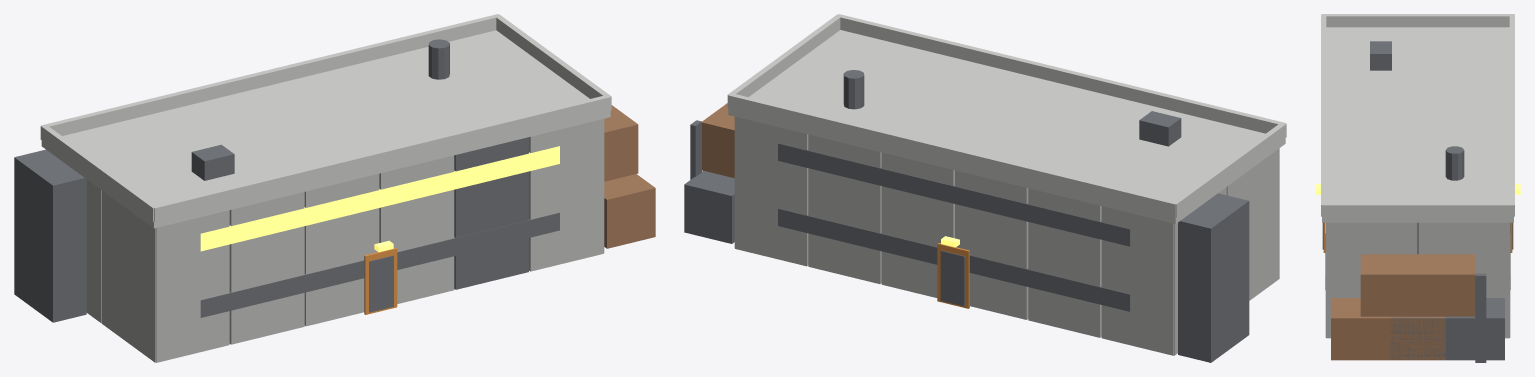
The model's file is B_dorm.glb.
3 views of the same model, side by side, from view 1: azimuth 30°, elevation 25°; view 2: azimuth 150°, elevation 25°; view 3: azimuth 270°, elevation 25° (orthographic). The views are drawn at different scales.
Parts seen in each view (by area): view 1: Cube.033, Cube.028, Cube.005, Cube, Cube.034, Cube.001, Cube.004, Cube.035, Cube.012, Cube.002, Cube.003, Cube.026 (+10 smaller); view 2: Cube.033, Cube.028, Cube.011, Cube.006, Cube.035, Cube.010, Cube.007, Cube.034, Cube.008, Cube.009, Cube.027, Cube.025 (+11 smaller); view 3: Cube.033, Cube.031, Cube.029, Cube.014, Cube.015, Cube.030, Cube.037, Cube.036, Cube.034, Cube.035, Cube.032, Cube.038 (+3 smaller).
Boxes of the visible parts, x1,y1,x2,y2 form: Cube.033: (41, 30, 610, 228); Cube.028: (14, 149, 86, 322); Cube.005: (529, 119, 603, 271); Cube: (156, 210, 229, 362); Cube.034: (152, 96, 611, 221); Cube.001: (229, 192, 304, 344); Cube.004: (454, 137, 528, 289); Cube.035: (41, 14, 500, 135); Cube.012: (102, 191, 155, 362); Cube.002: (304, 174, 379, 326); Cube.003: (379, 155, 454, 303); Cube.026: (200, 146, 559, 251); Cube.033: (728, 30, 1285, 223); Cube.028: (1178, 193, 1249, 362); Cube.011: (735, 116, 808, 266); Cube.006: (1101, 206, 1173, 355); Cube.035: (728, 93, 1176, 217); Cube.010: (808, 134, 881, 283); Cube.007: (1028, 188, 1101, 337); Cube.034: (836, 14, 1286, 133); Cube.008: (955, 170, 1028, 319); Cube.009: (881, 152, 954, 297); Cube.027: (778, 143, 1130, 246); Cube.025: (778, 208, 1130, 311); Cube.033: (1322, 27, 1513, 222); Cube.031: (1360, 254, 1475, 316); Cube.029: (1331, 298, 1445, 360); Cube.014: (1326, 222, 1417, 338); Cube.015: (1418, 222, 1509, 338); Cube.030: (1390, 298, 1504, 360); Cube.037: (1322, 203, 1513, 217); Cube.036: (1322, 14, 1513, 27); Cube.034: (1321, 14, 1326, 216); Cube.035: (1509, 14, 1514, 216); Cube.032: (1475, 273, 1486, 362); Cube.038: (1370, 41, 1391, 70).
Bounding box in the file's own units: 29.05 × 9.1 × 11.1.
